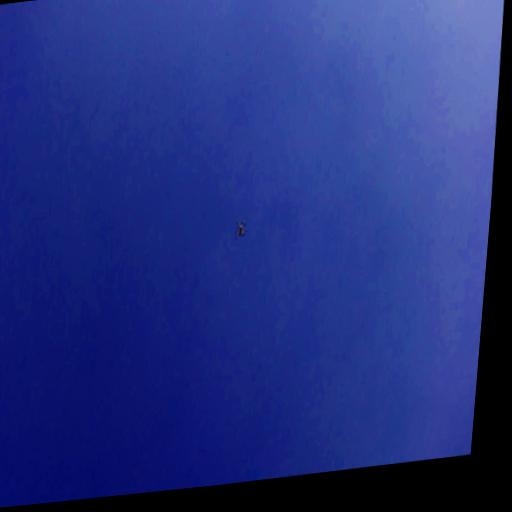drones: (233, 218, 248, 243)
